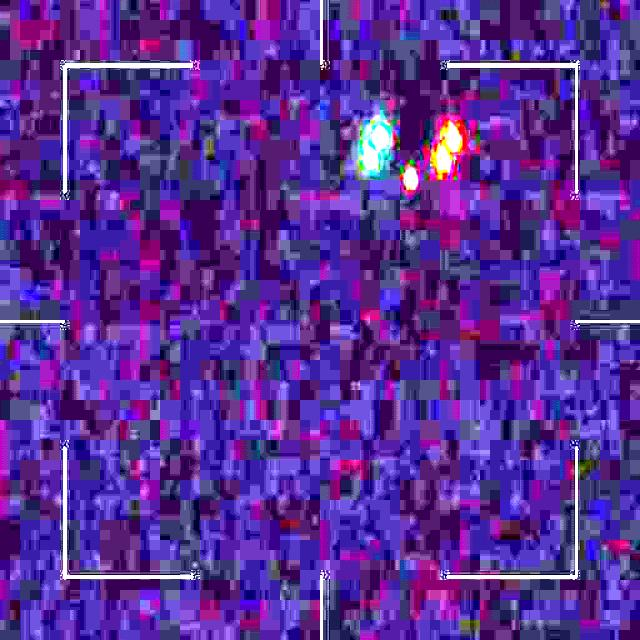bird: (361, 115, 464, 186)
